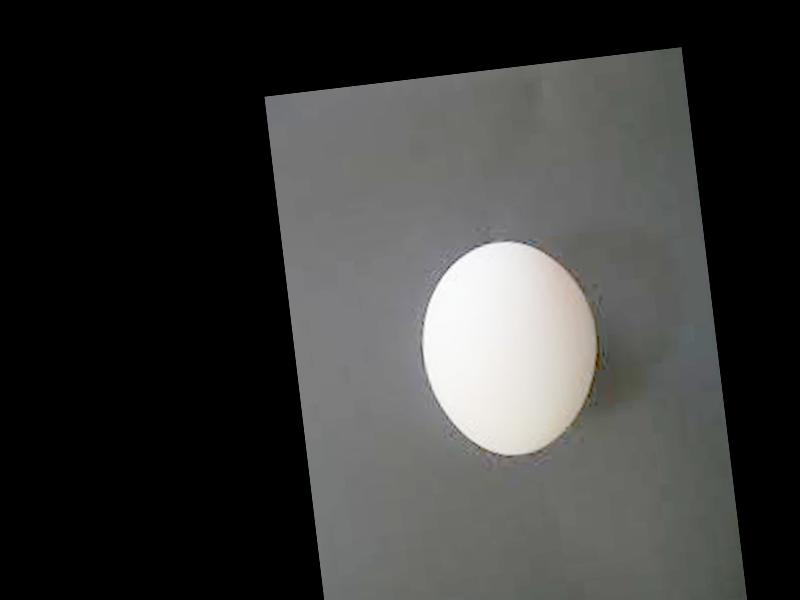Eggs: (412, 237, 607, 466)
